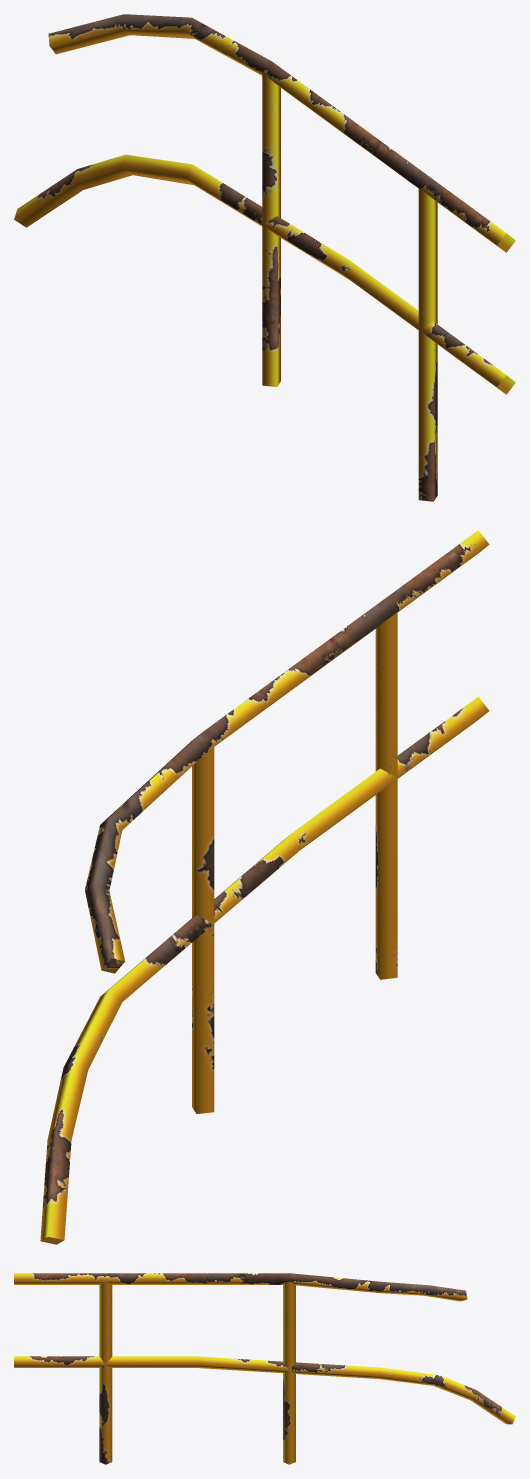
The model's file is safetyRail_3m_B.fbx.
3 renders of one model, top to bottom at view 1: azimuth 30°, elevation 25°; view 2: azimuth 150°, elevation 25°; view 3: azimuth 270°, elevation 25°, orthographic. The views are drawn at different scales.
Visible parts, largest first — view 1: safetyRail_3m_B; view 2: safetyRail_3m_B; view 3: safetyRail_3m_B.
Part boxes in pixels (bbox=[...]): safetyRail_3m_B: bbox=[14, 14, 515, 501]; safetyRail_3m_B: bbox=[40, 530, 489, 1244]; safetyRail_3m_B: bbox=[14, 1273, 515, 1464].
Size of the model in its own units: 32.23 by 113 by 273.
